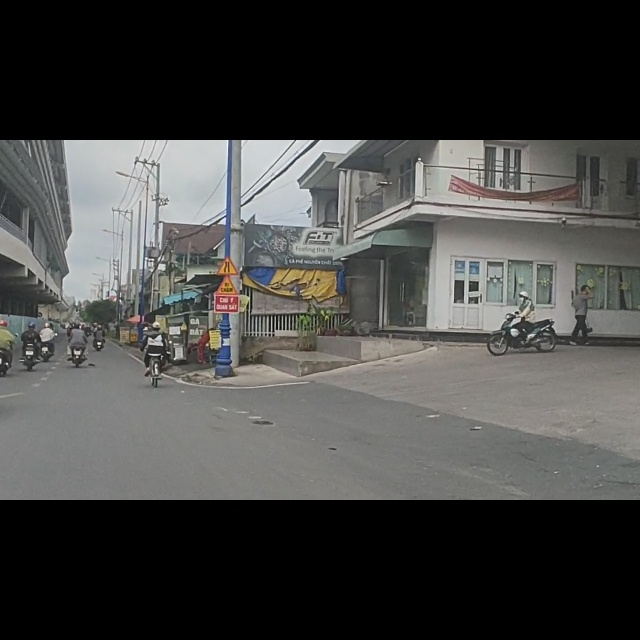Đi chậm: (213, 275, 239, 295)
Đường bị hẹp bên trái: (217, 257, 239, 276)
